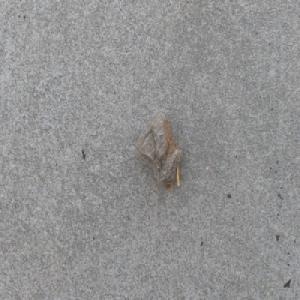Rock: (135, 108, 183, 191)
